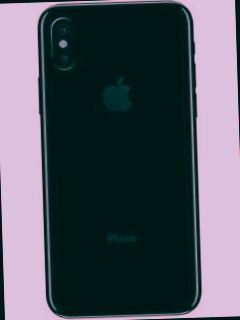iphone: (17, 0, 220, 320)
